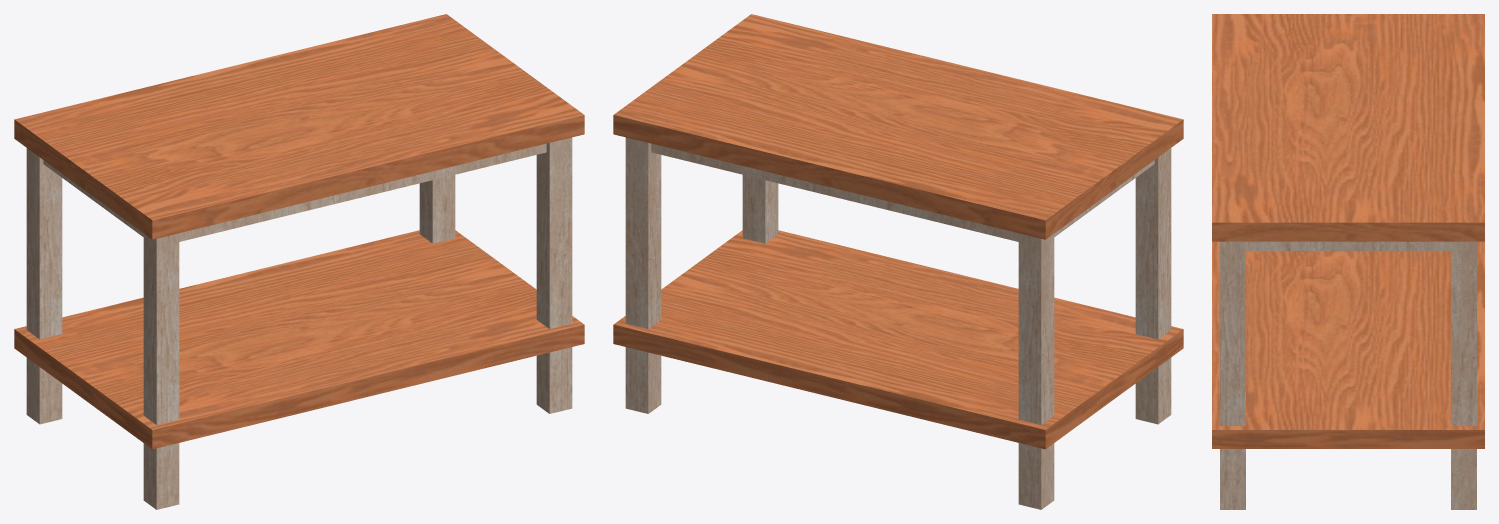
The model's file is Table_38.glb.
3 views of the same model, side by side, from view 1: azimuth 30°, elevation 25°; view 2: azimuth 150°, elevation 25°; view 3: azimuth 270°, elevation 25° (orthographic).
Parts seen in each view (by area): view 1: Table_38; view 2: Table_38; view 3: Table_38.
Part boxes in pixels (x1=…): Table_38: x1=14, y1=14, x2=584, y2=509; Table_38: x1=613, y1=14, x2=1183, y2=509; Table_38: x1=1212, y1=14, x2=1484, y2=509.
Bounding box in the file's own units: 1.08 × 0.7008 × 0.5951.
Materials: 2 (2 with a texture image).
